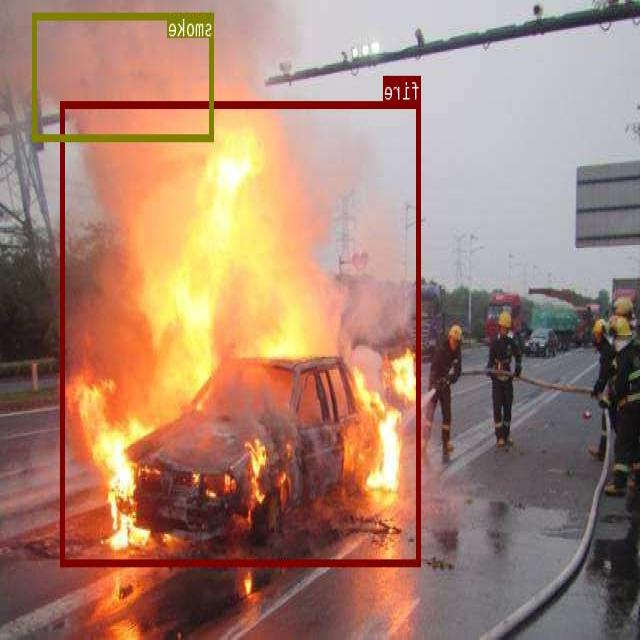fire: (62, 101, 422, 565)
smoke: (34, 12, 214, 139)
